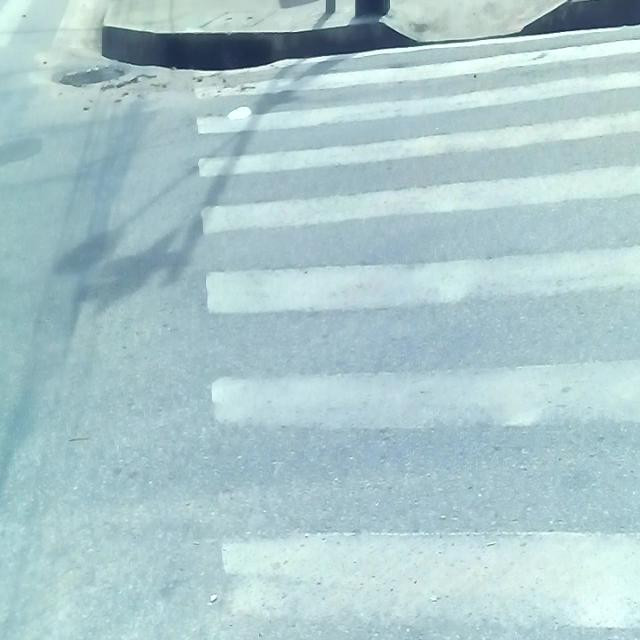crosswalk: (193, 20, 640, 640)
